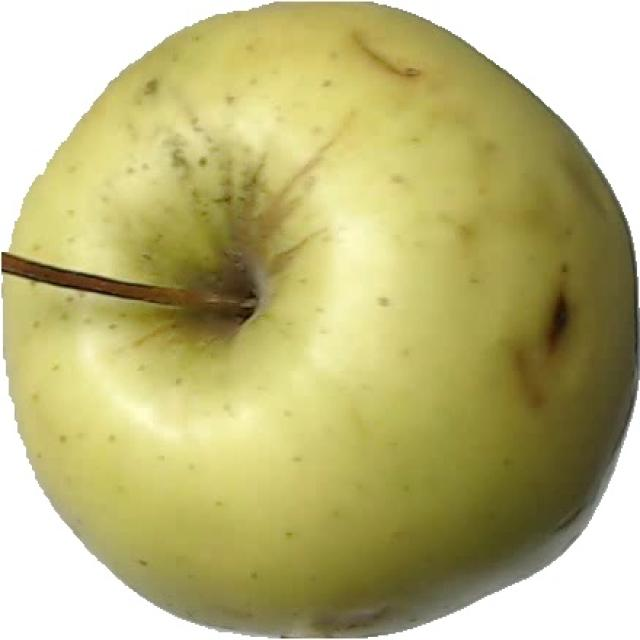Golden Elma: (4, 9, 640, 640)
